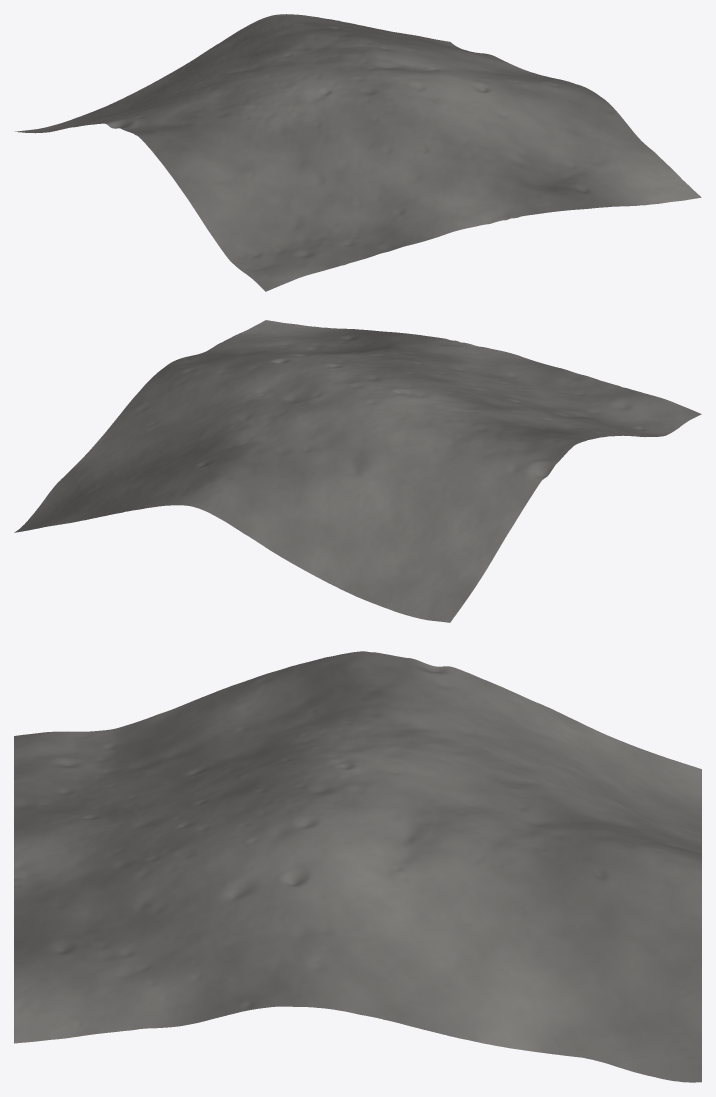
The model's file is malapert-massif.glb.
The picture shows the model from 3 angles, top to bottom: view 1: azimuth 30°, elevation 25°; view 2: azimuth 150°, elevation 25°; view 3: azimuth 270°, elevation 25°; orthographic projection. The views are drawn at different scales.
Visible parts, largest first — view 1: Ground; view 2: Ground; view 3: Ground.
Boxes of the visible parts, bbox=[...] form: Ground: bbox=[15, 14, 701, 291]; Ground: bbox=[14, 320, 701, 622]; Ground: bbox=[14, 651, 701, 1082].
Size of the model in its own units: 20 by 4.76 by 20.
Materials: 1 (1 with a texture image).
